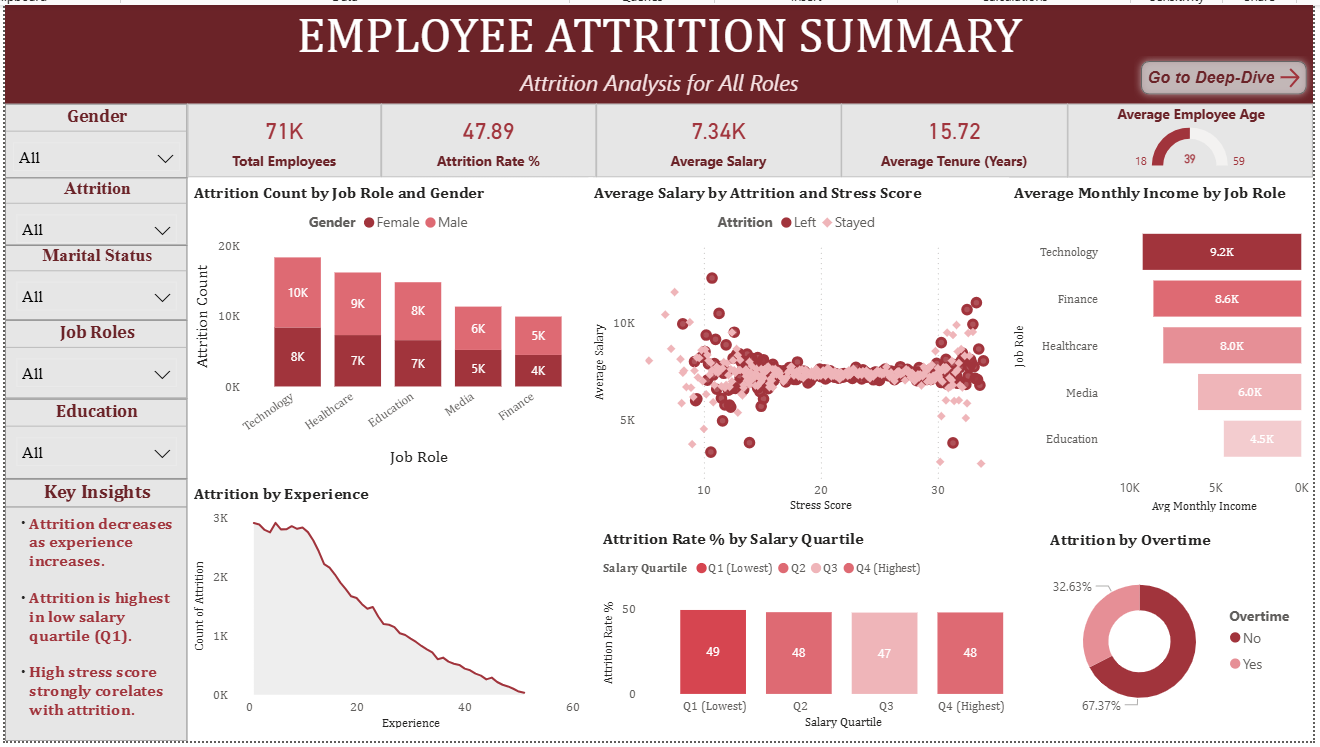

The page's visual inventory and layout, read from the dashboard file:
{"tool":"powerbi","page":{"name":"Employee Attrition Summary","canvas":[1280,720],"ordinal":0},"visuals":[{"type":"slicer","title":"Job Roles","fields":{"Values":["attrition_data2.Job_Role"]},"box":[0,308.2,178.5,77],"z":0},{"type":"textbox","title":"EMPLOYEE ATTRITION SUMMARY","box":[0,0,1280.3,96.6],"z":1000},{"type":"clusteredBarChart","title":"Average Monthly Income by Job Role","fields":{"Category":["attrition_data2.Job_Role"],"Y":["Avg(attrition_data2.Monthly_Income)"]},"box":[981.9,168.8,298.4,339.9],"z":2000},{"type":"slicer","title":"Education","fields":{"Values":["attrition_data2.Education_Level"]},"box":[0,385.2,178.5,78.3],"z":3000},{"type":"slicer","title":"Gender","fields":{"Values":["attrition_data2.Gender"]},"box":[0,96.2,178.8,72.5],"z":4000},{"type":"lineChart","title":"Attrition by Experience","fields":{"Category":["attrition_data2.Years_at_Company"],"Y":["CountNonNull(attrition_data2.Attrition)"]},"box":[179.5,463.3,391,257.4],"z":5000},{"type":"donutChart","title":"Attrition by Overtime","fields":{"Category":["attrition_data2.Overtime"],"Y":["CountNonNull(attrition_data2.Attrition)"]},"box":[1017.7,508.9,262.3,211.4],"z":6000},{"type":"card","fields":{"Values":["attrition_data2.Total Employees"]},"box":[178.5,96.6,189.5,72.1],"z":7000},{"type":"card","fields":{"Values":["attrition_data2.Attrition Rate %"]},"box":[368.1,96.6,210.3,72.1],"z":8000},{"type":"card","fields":{"Values":["Avg(attrition_data2.Monthly_Income)"]},"box":[578.4,96.6,239.7,72.1],"z":9000},{"type":"card","fields":{"Values":["Avg(attrition_data2.Years_at_Company)"]},"box":[818.1,96.6,221.3,72.1],"z":10000},{"type":"columnChart","fields":{"Category":["attrition_data2.Job_Role"],"Series":["attrition_data2.Gender"],"Y":["CountNonNull(attrition_data2.Attrition)"]},"box":[179.5,168.3,395.1,295],"z":11000},{"type":"columnChart","title":"Attrition Rate % by Salary Quartile","fields":{"Category":["attrition_data2.Salary Quartile"],"Y":["attrition_data2.Attrition Rate %"],"Series":["attrition_data2.Salary Quartile"]},"box":[579.3,507.6,438.4,212.7],"z":12000},{"type":"scatterChart","title":"Average Salary by Attrition and Stress Score","fields":{"X":["attrition_data2.Stress Score"],"Y":["Avg(attrition_data2.Monthly_Income)"],"Series":["attrition_data2.Attrition"]},"box":[571.1,168.8,410.9,339.9],"z":13000},{"type":"slicer","title":"Attrition","fields":{"Values":["attrition_data2.Attrition"]},"box":[0,168.8,178.8,66.2],"z":14000},{"type":"slicer","title":"Marital Status","fields":{"Values":["attrition_data2.Marital_Status"]},"box":[0,235,178.8,73.8],"z":15000},{"type":"gauge","title":"Average Employee Age","fields":{"Y":["Avg(attrition_data2.Age)"],"MinValue":["Min(attrition_data2.Age)1"],"MaxValue":["Max(attrition_data2.Age)2"]},"box":[1039.9,96.6,240.1,71.8],"z":16000},{"type":"textbox","title":"Key Insights","box":[0,463.5,178.5,256.8],"z":17000},{"type":"actionButton","box":[1103.9,48.3,176.1,47],"z":20001}]}

Visuals, with their boxes on the page's 1280x720 design canvas (x1, y1, x2, y2). These are canvas units, not pixel positions in the 1320x747 screenshot, which may show the page scaled, cropped or inside an application window:
"Job Roles" slicer: rect(0, 308, 178, 385)
"EMPLOYEE ATTRITION SUMMARY" textbox: rect(0, 0, 1280, 97)
"Average Monthly Income by Job Role" clusteredBarChart: rect(982, 169, 1280, 509)
"Education" slicer: rect(0, 385, 178, 464)
"Gender" slicer: rect(0, 96, 179, 169)
"Attrition by Experience" lineChart: rect(180, 463, 570, 721)
"Attrition by Overtime" donutChart: rect(1018, 509, 1280, 720)
card - attrition_data2.Total Employees: rect(178, 97, 368, 169)
card - attrition_data2.Attrition Rate %: rect(368, 97, 578, 169)
card - Avg(attrition_data2.Monthly_Income): rect(578, 97, 818, 169)
card - Avg(attrition_data2.Years_at_Company): rect(818, 97, 1039, 169)
columnChart - attrition_data2.Job_Role x attrition_data2.Gender: rect(180, 168, 575, 463)
"Attrition Rate % by Salary Quartile" columnChart: rect(579, 508, 1018, 720)
"Average Salary by Attrition and Stress Score" scatterChart: rect(571, 169, 982, 509)
"Attrition" slicer: rect(0, 169, 179, 235)
"Marital Status" slicer: rect(0, 235, 179, 309)
"Average Employee Age" gauge: rect(1040, 97, 1280, 168)
"Key Insights" textbox: rect(0, 464, 178, 720)
actionButton: rect(1104, 48, 1280, 95)
